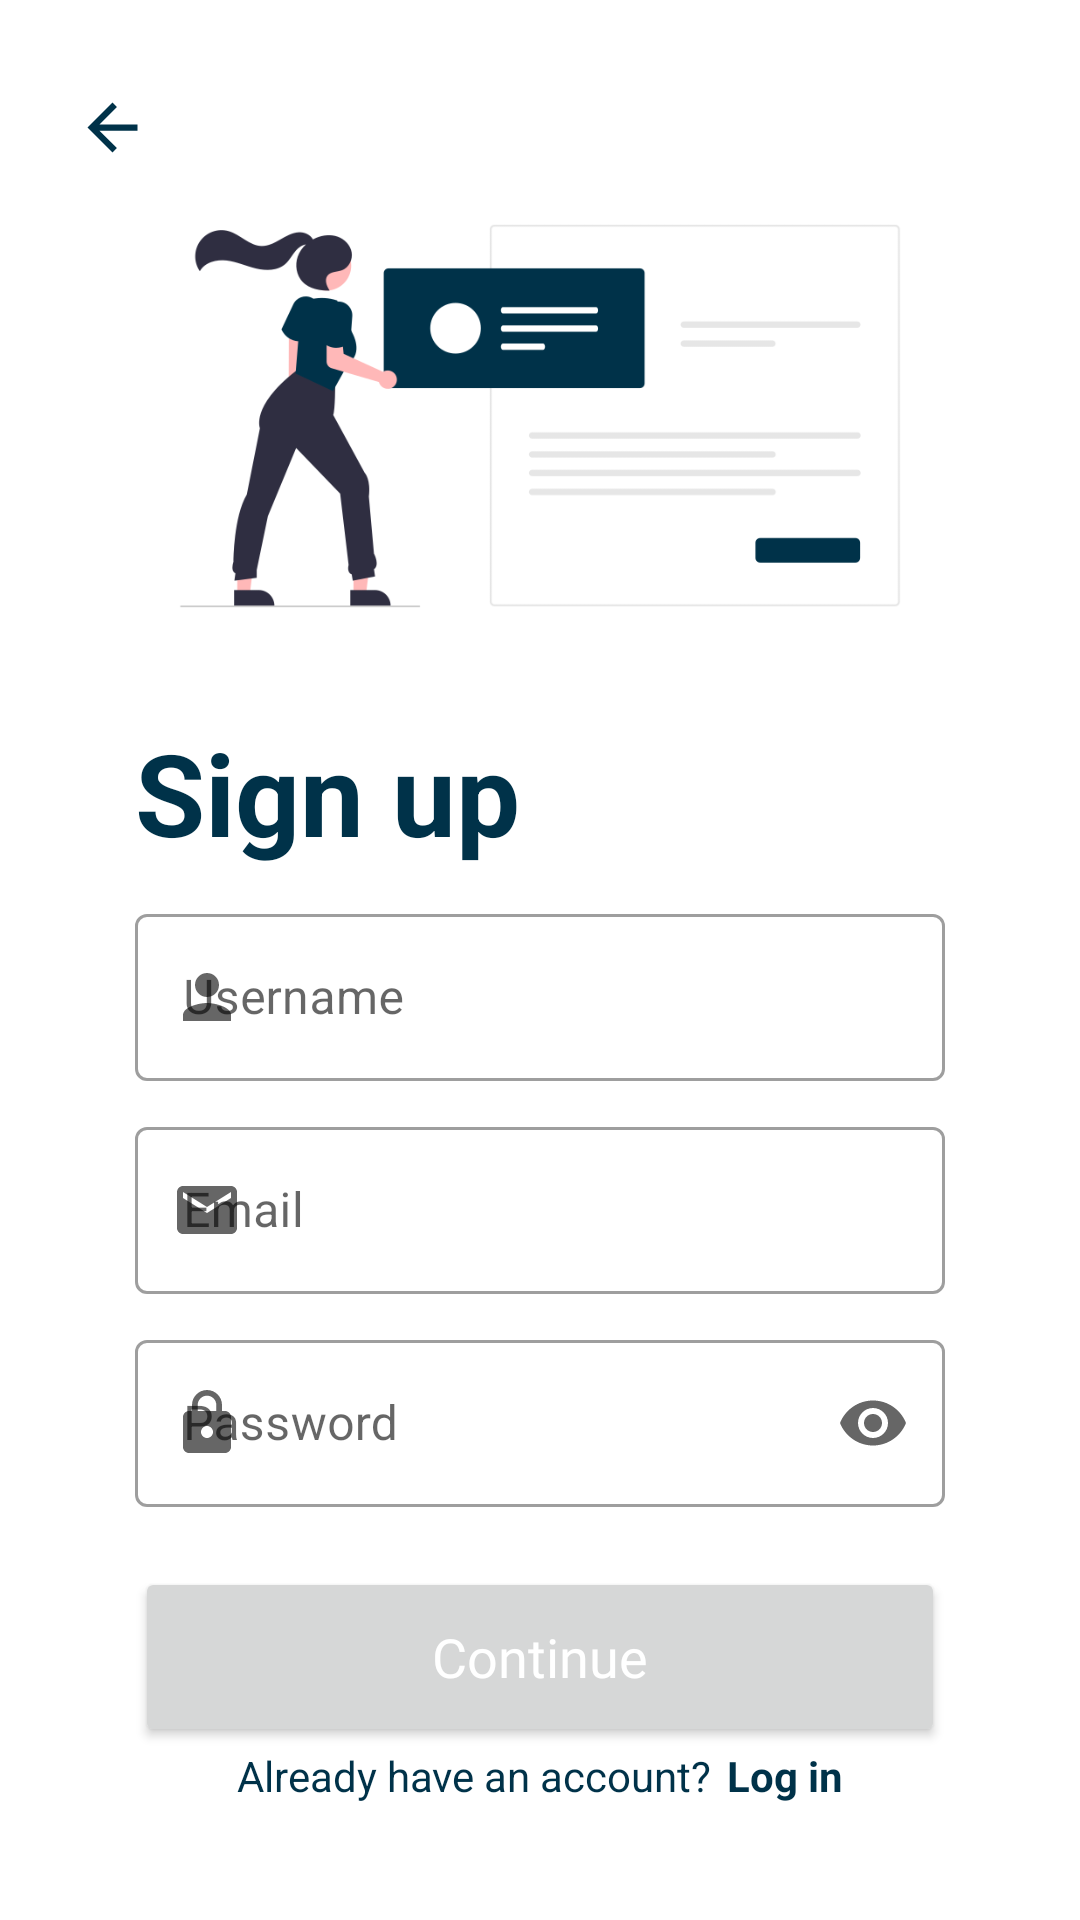

Icon click points for this 1080x1920 phone screenshot, format (x,y):
back: (112,127)
